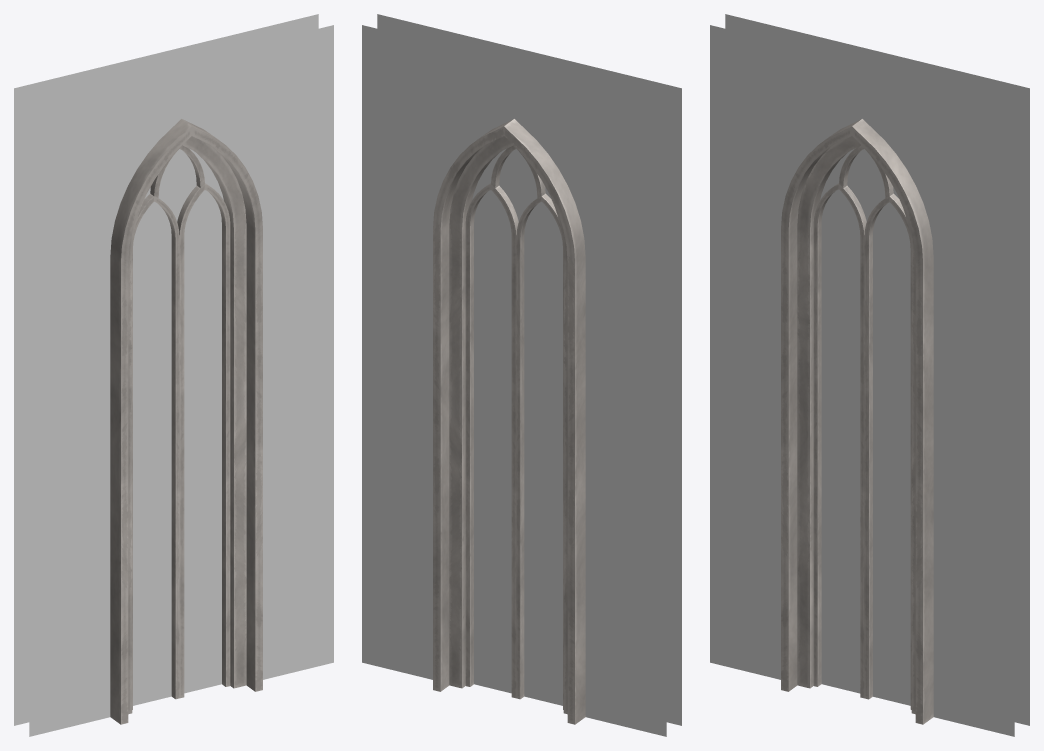
Rendered from Wall_Window_B_C.fbx.
The picture shows the model from 3 angles, left to right: view 1: azimuth 30°, elevation 25°; view 2: azimuth 150°, elevation 25°; view 3: azimuth 330°, elevation 25°; orthographic projection.
Parts seen in each view (by area): view 1: Wall_Window_B_C; view 2: Wall_Window_B_C; view 3: Wall_Window_B_C.
Boxes of the visible parts, left/top/right/bottom form: Wall_Window_B_C: left=14, top=14, right=333, bottom=736; Wall_Window_B_C: left=362, top=14, right=681, bottom=736; Wall_Window_B_C: left=710, top=14, right=1029, bottom=736.
Bounding box in the file's own units: 3 × 0.6115 × 6.
